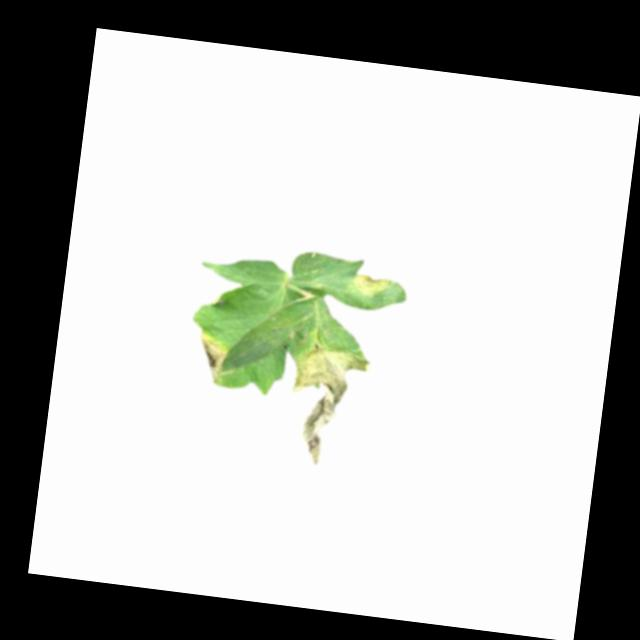Late_blight: (279, 337, 374, 472), (192, 334, 232, 387), (344, 265, 395, 300)
